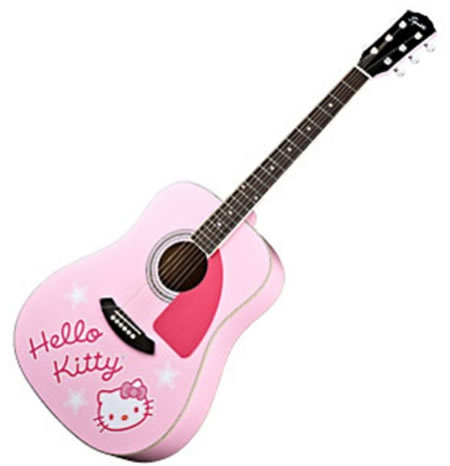guitar: (12, 6, 439, 461)
